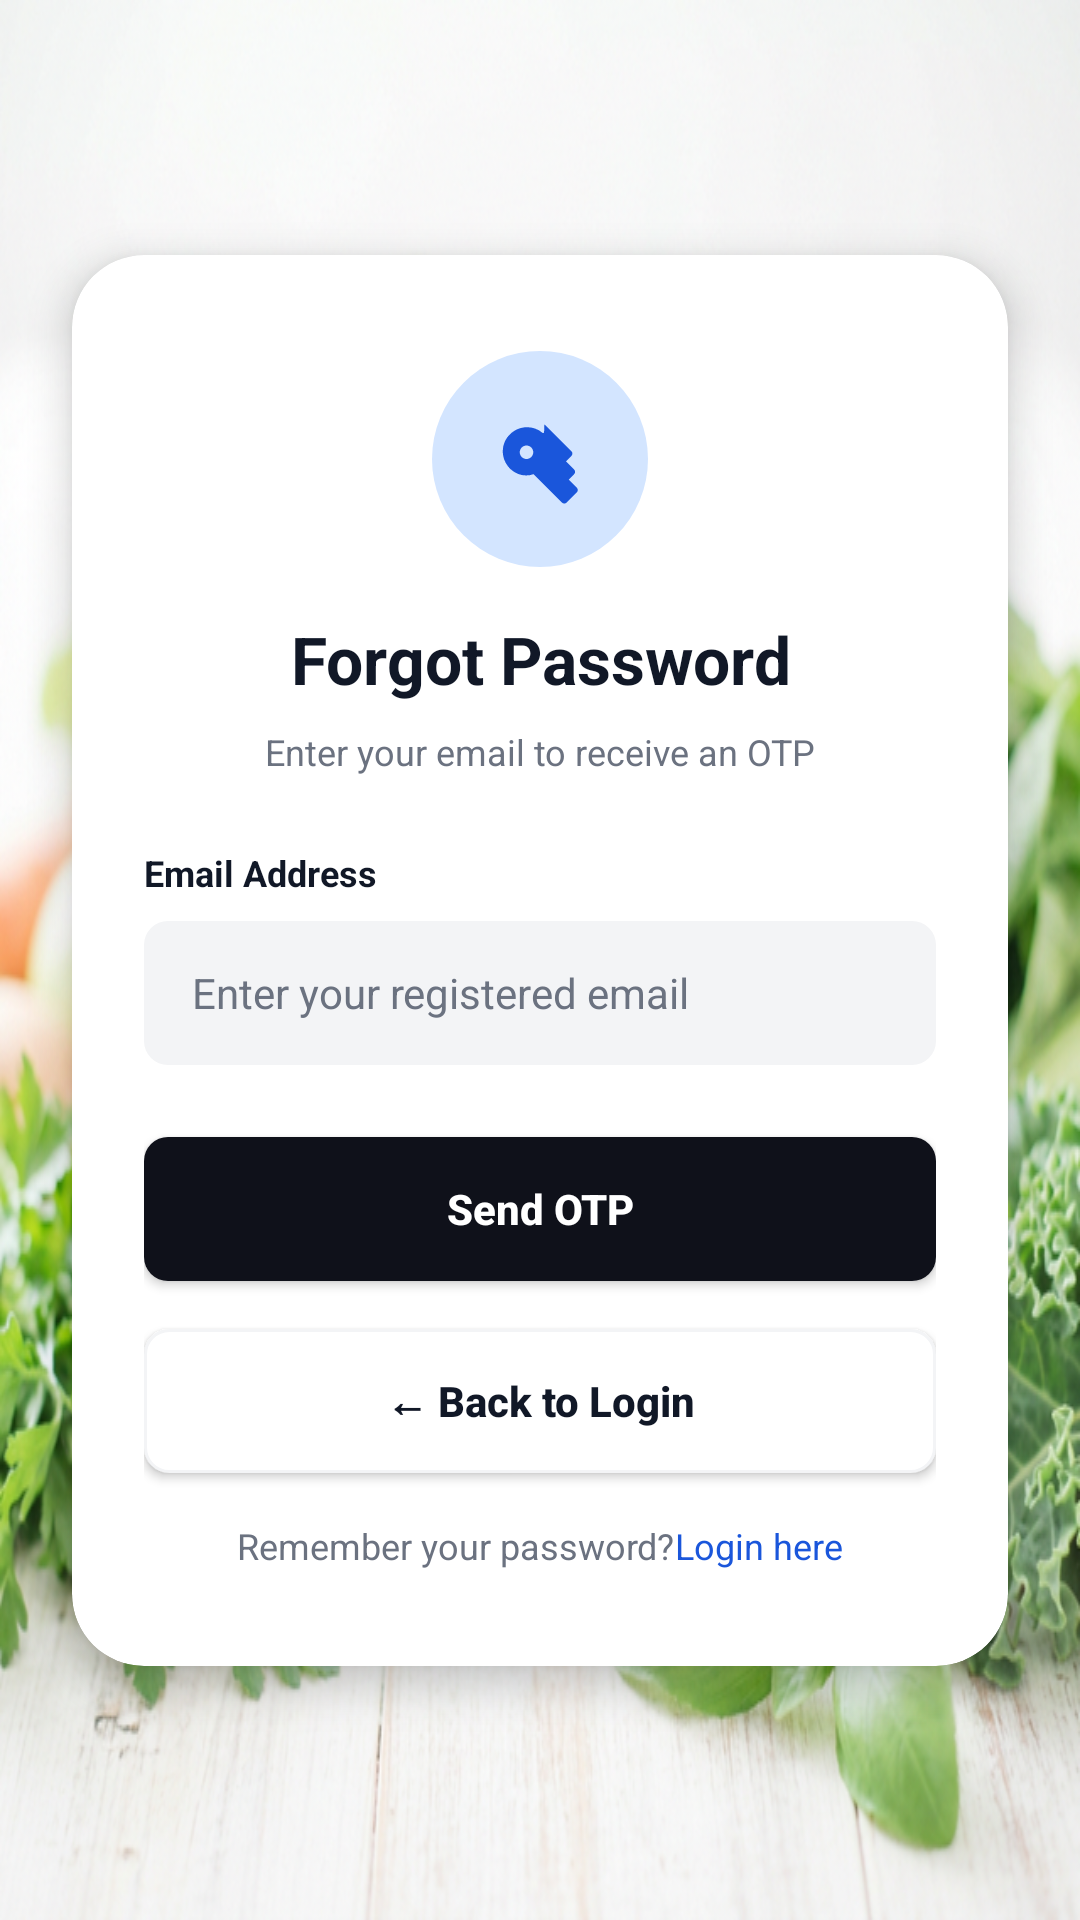

Icons on this 1080px×1920px Android screen, each with its box as (x1, y1, x2, y2):
key: (432, 351, 648, 567)
